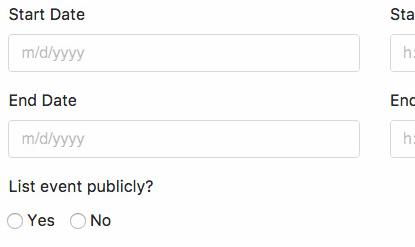field: (5, 118, 363, 159), (6, 33, 363, 74)
field_with_label: (4, 6, 366, 76), (3, 94, 364, 161)
radio: (6, 211, 27, 232), (69, 211, 87, 232)
radio_with_label: (3, 208, 54, 235), (65, 208, 114, 234)
